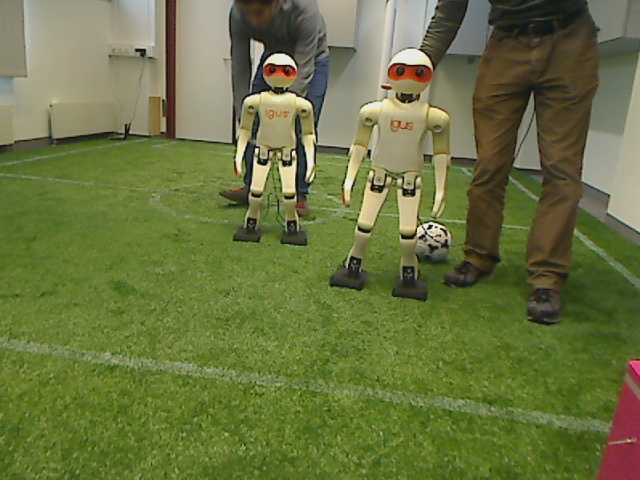ball: (407, 219, 458, 267)
robot: (330, 47, 452, 302), (233, 53, 320, 246)
